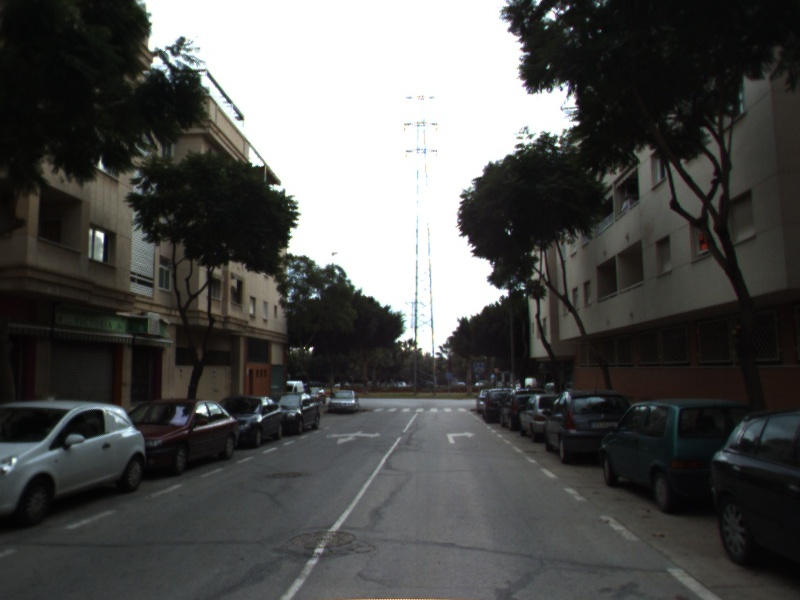RIGHT: (444, 429, 477, 445)
